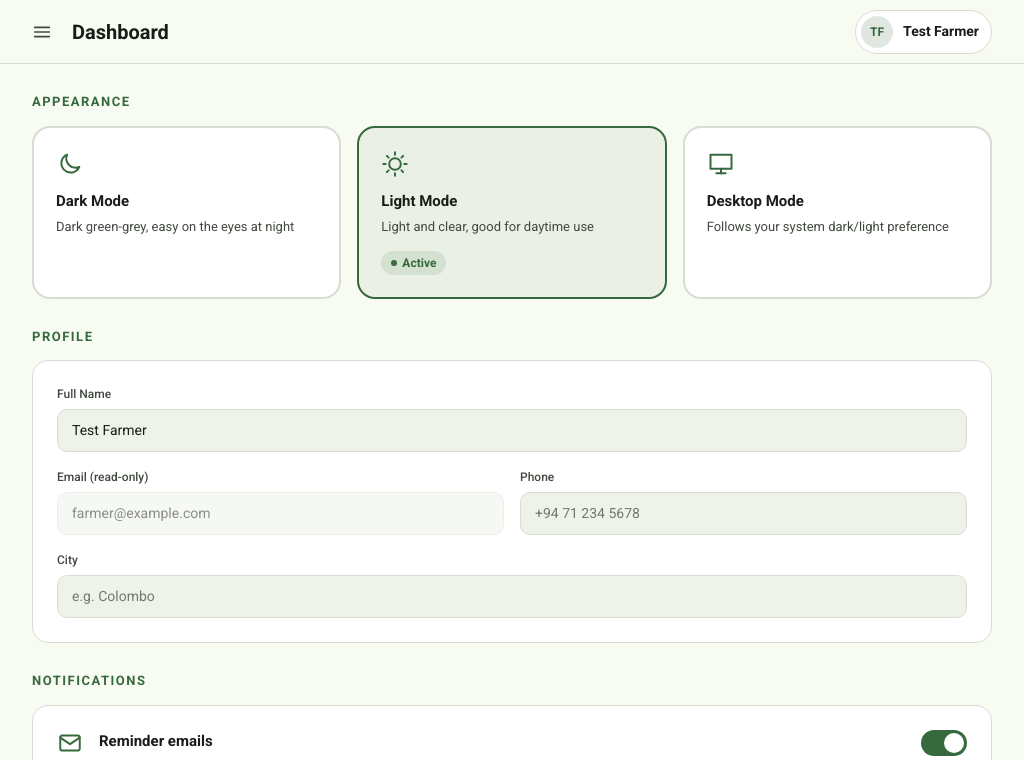
SettingsPage theme › saves a theme the moment it is picked
This screenshot has width=1024, height=760.
Click the button "Dark Mode Dark green-grey, easy on the eyes at night".
click(93, 200)  # box left=32, top=126, right=341, bottom=298
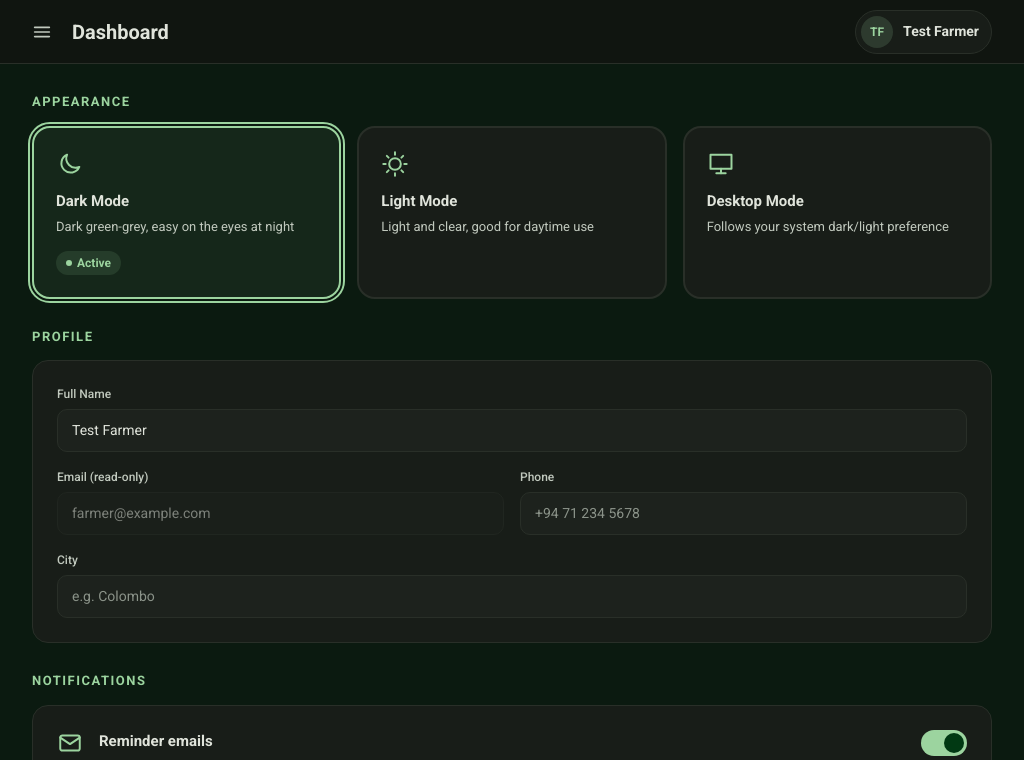
Result: the button "Dark Mode Dark green-grey, easy on the eyes at night Active" is pressed at left=32, top=126, right=341, bottom=298
